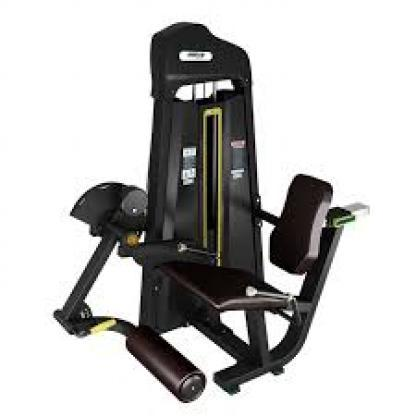leg extension: (41, 12, 378, 406)
